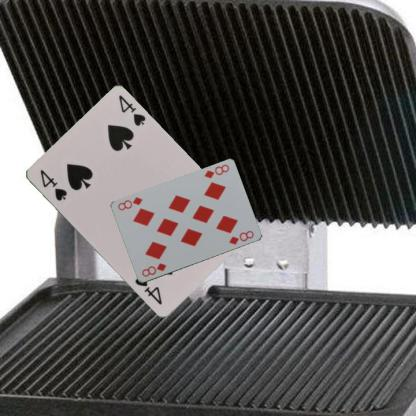4s: (37, 167, 68, 202)
8d: (139, 260, 168, 278), (202, 162, 230, 180)
